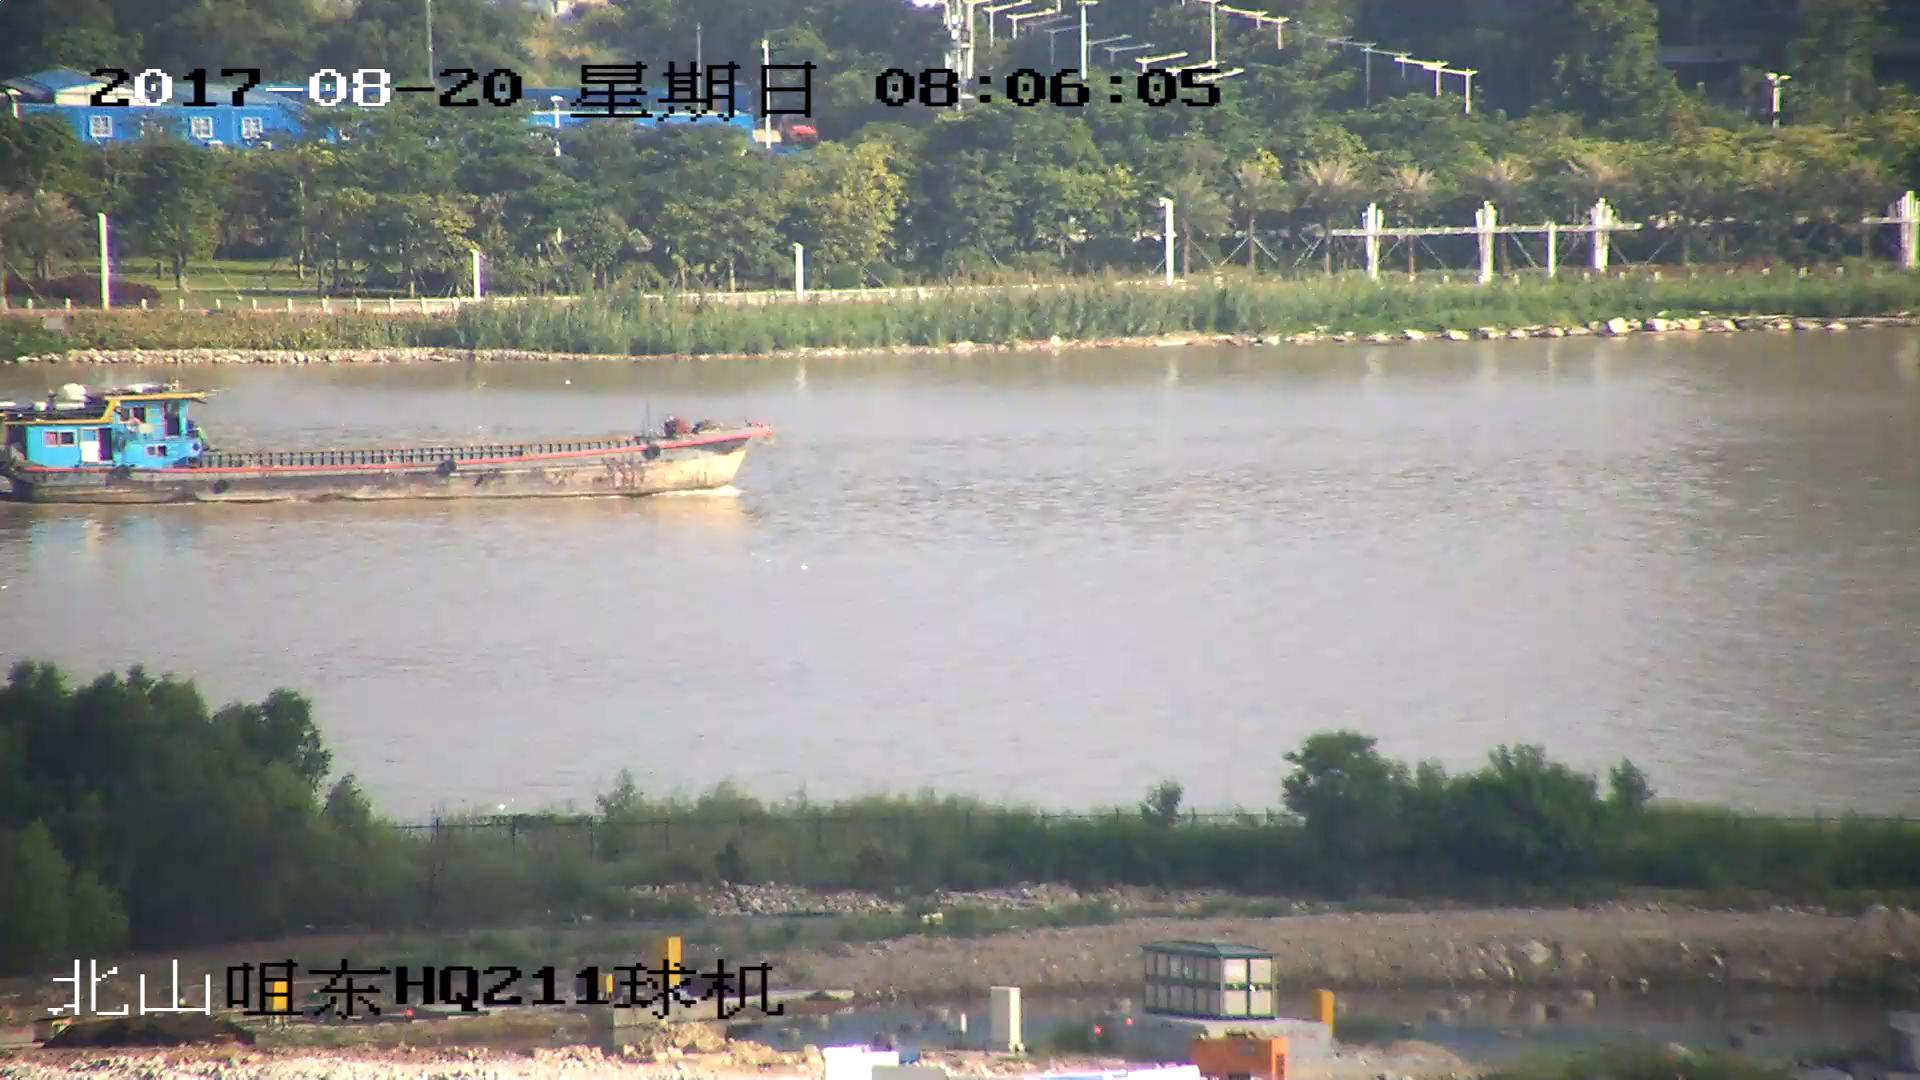fishing boat: (1, 386, 747, 503)
